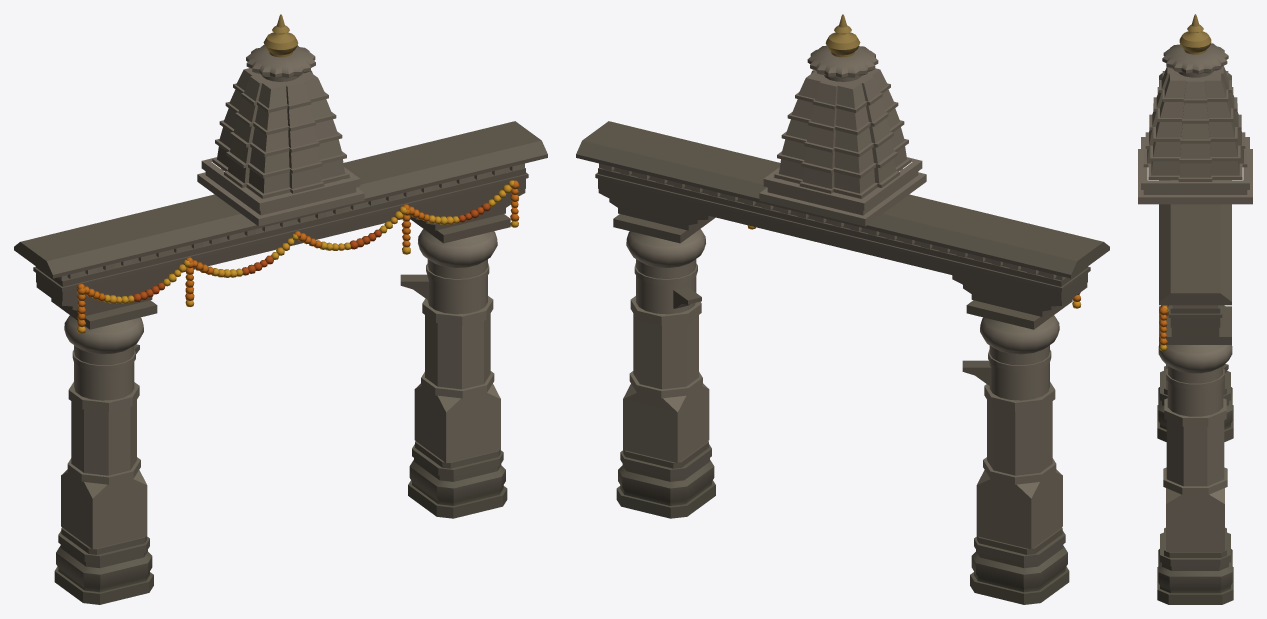
The model's file is gate.glb.
The picture shows the model from 3 angles, left to right: view 1: azimuth 30°, elevation 25°; view 2: azimuth 150°, elevation 25°; view 3: azimuth 270°, elevation 25°; orthographic projection. The views are drawn at different scales.
Parts seen in each view (by area): view 1: gate; view 2: gate; view 3: gate.
Part boxes in pixels (left/top/right/bottom): gate: left=14, top=14, right=547, bottom=604; gate: left=576, top=14, right=1109, bottom=604; gate: left=1138, top=14, right=1252, bottom=604.
Size of the model in its own units: 5.6 by 5.69 by 1.2.
